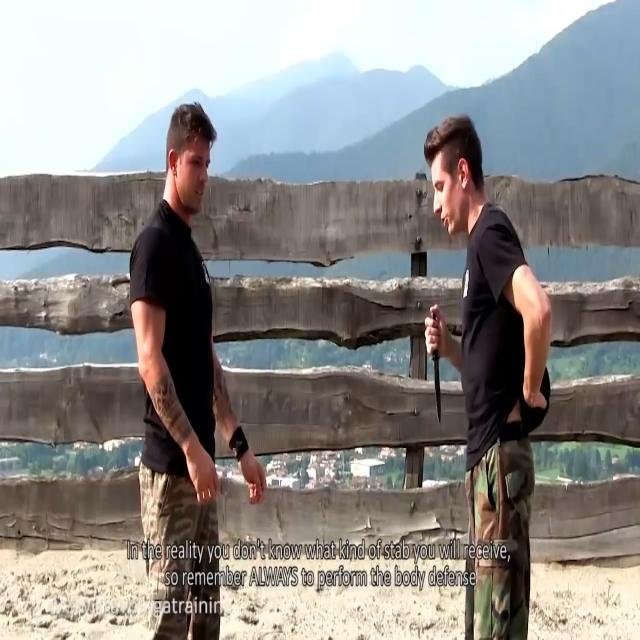knife: (431, 351, 451, 433)
